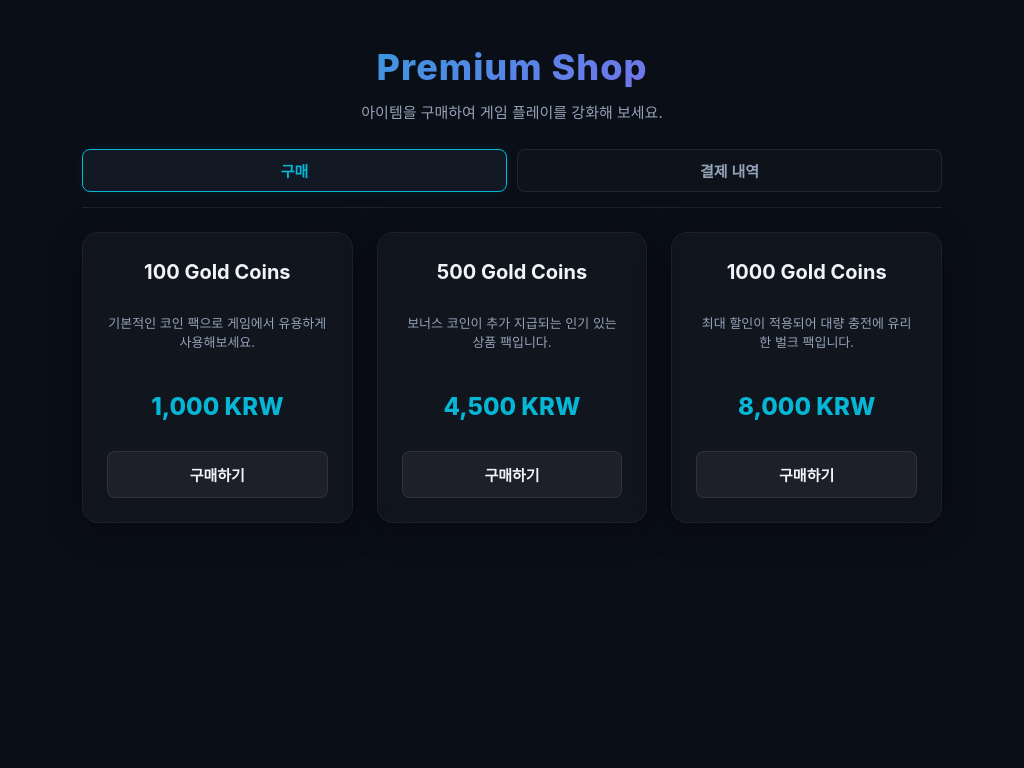
Test case: Payment Component › shows a failure message and failed styling when the backend reports FAILED
Click the button "구매하기" below "1,000".
click(217, 474)  # box [107,450,328,498]
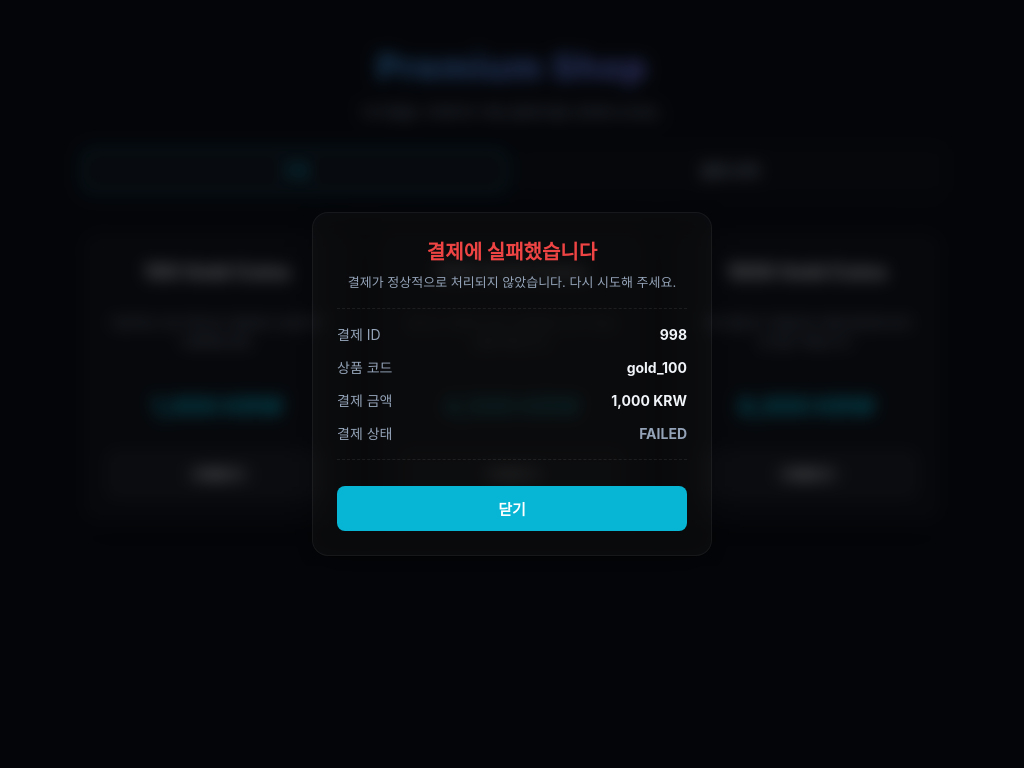
Result: the heading "결제에 실패했습니다" is shown at [427,240,597,264]
